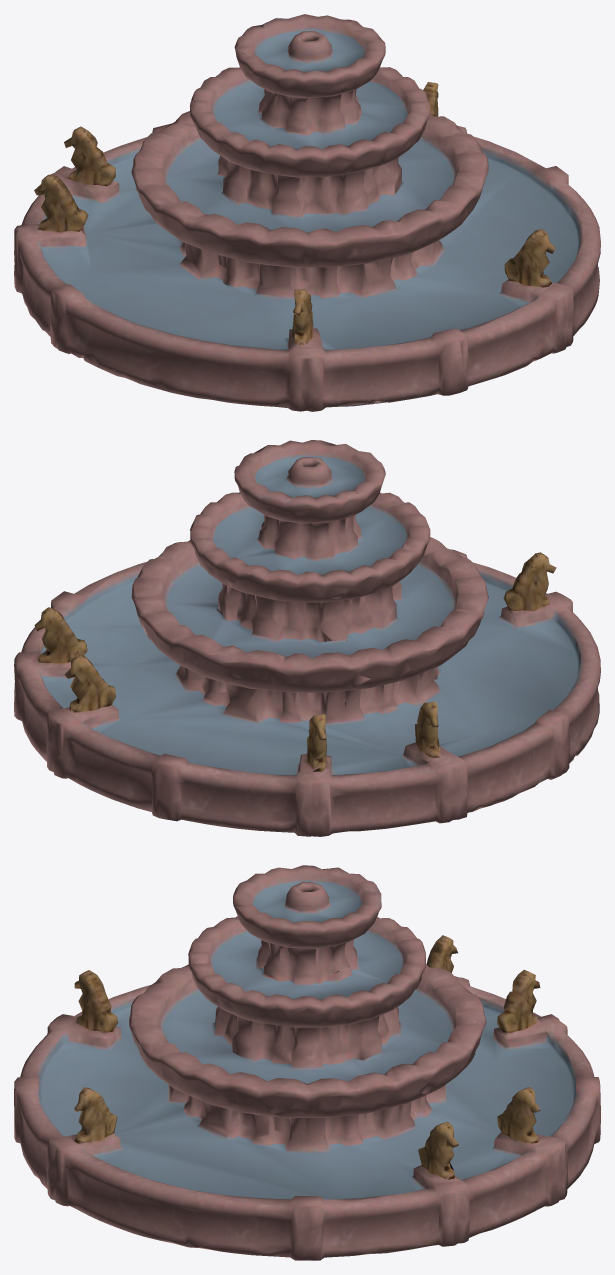
Rendered from buckingham_fountain.glb.
3 views of the same model, one above another, from view 1: azimuth 30°, elevation 25°; view 2: azimuth 150°, elevation 25°; view 3: azimuth 270°, elevation 25° (orthographic).
Parts seen in each view (by area): view 1: buckingham_fountain; view 2: buckingham_fountain; view 3: buckingham_fountain.
Part boxes in pixels (<box>): buckingham_fountain: <box>14,14,600,411</box>; buckingham_fountain: <box>14,440,600,836</box>; buckingham_fountain: <box>14,865,600,1260</box>.
Bounding box in the file's own units: 16.15 × 7.68 × 16.16.
Materials: 1 (1 with a texture image).
